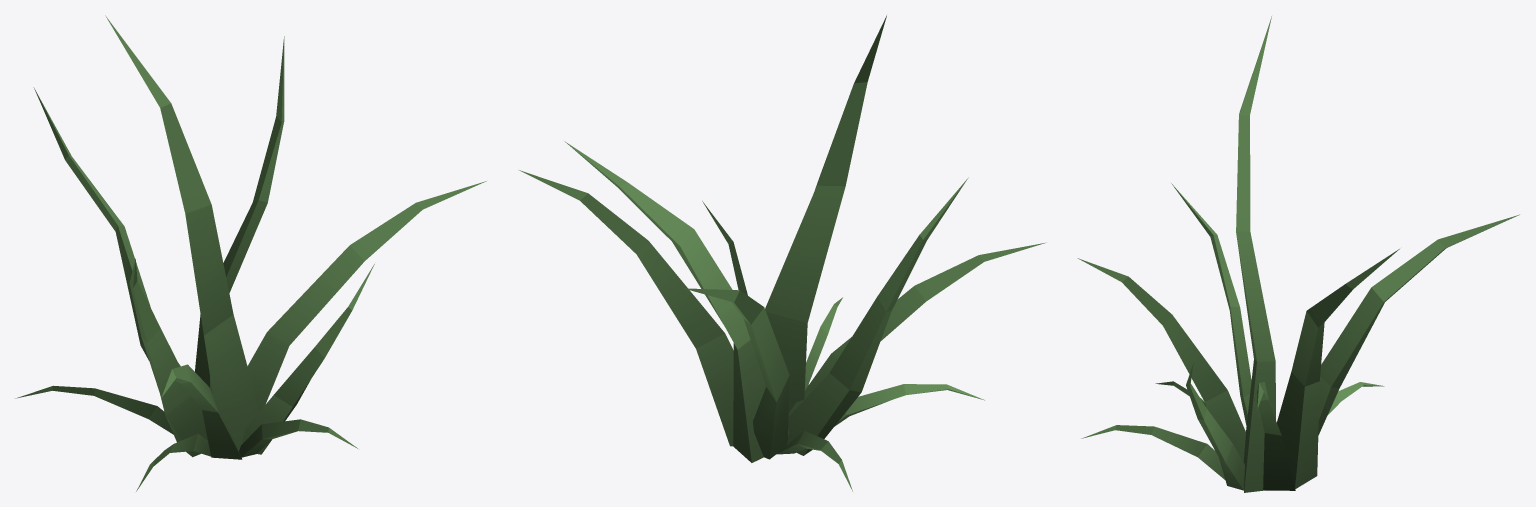
Rendered from Grass-02.FBX.
3 renders of one model, left to right at view 1: azimuth 30°, elevation 25°; view 2: azimuth 150°, elevation 25°; view 3: azimuth 270°, elevation 25°, orthographic. The views are drawn at different scales.
Visible parts, largest first — view 1: Grass-02; view 2: Grass-02; view 3: Grass-02.
Part boxes in pixels (left/top/right/bottom): Grass-02: left=15, top=15, right=486, bottom=491; Grass-02: left=519, top=15, right=1045, bottom=491; Grass-02: left=1077, top=16, right=1519, bottom=492.
Size of the model in its own units: 110 by 112 by 109.
1 material, 1 textured.
